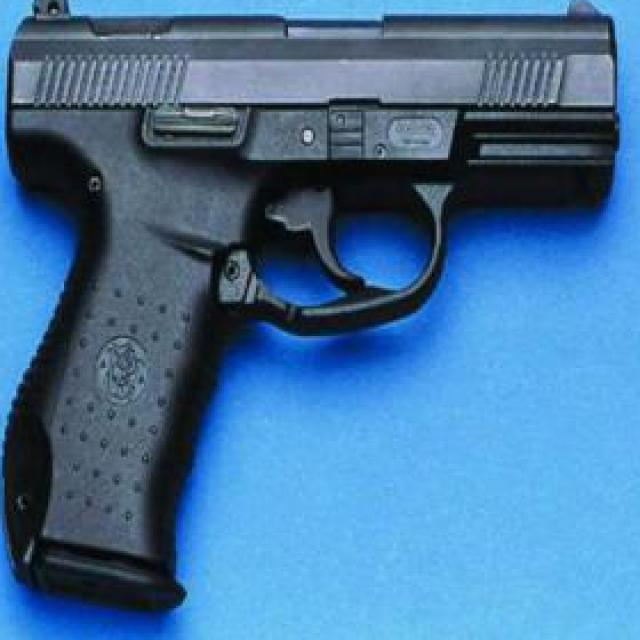pistol: (0, 0, 617, 608)
